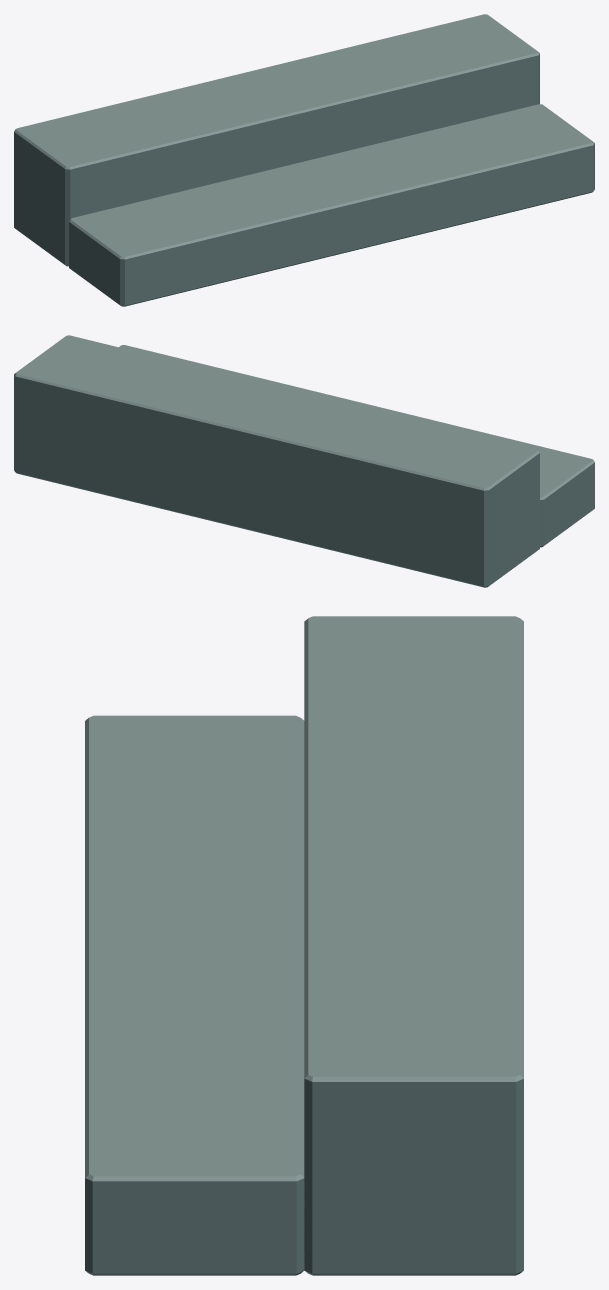
Rendered from stair-short.glb.
3 views of the same model, one above another, from view 1: azimuth 30°, elevation 25°; view 2: azimuth 150°, elevation 25°; view 3: azimuth 270°, elevation 25° (orthographic). The views are drawn at different scales.
Visible parts, largest first — view 1: stair-short__body; view 2: stair-short__body; view 3: stair-short__body.
Boxes of the visible parts, box(x1,y1,x2,y2) form: stair-short__body: box(14, 14, 594, 306); stair-short__body: box(14, 335, 594, 587); stair-short__body: box(85, 616, 523, 1275).
Bounding box in the file's own units: 2 × 0.4 × 0.8.
